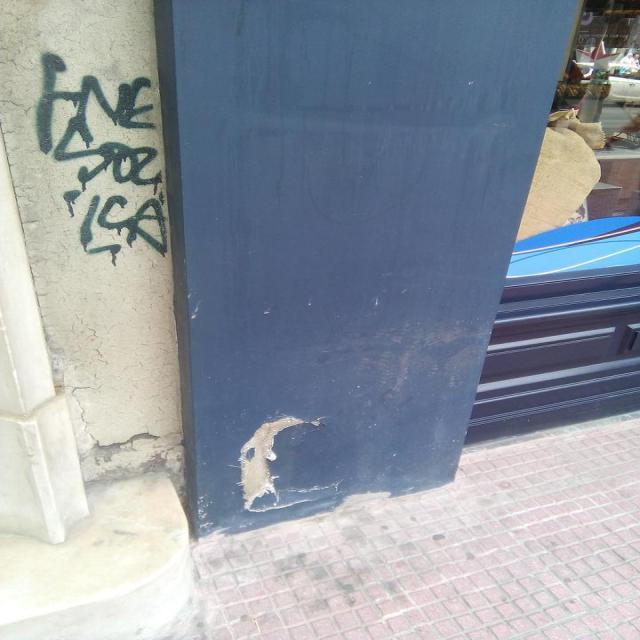nonspitting: (32, 52, 167, 258)
